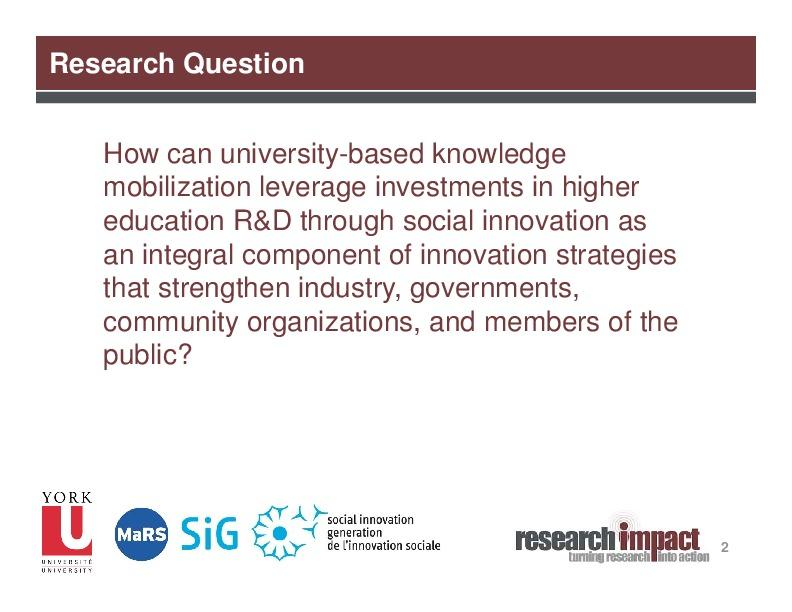paragraph: (89, 117, 750, 407)
subtitle: (16, 476, 755, 596)
title: (37, 38, 311, 90)
